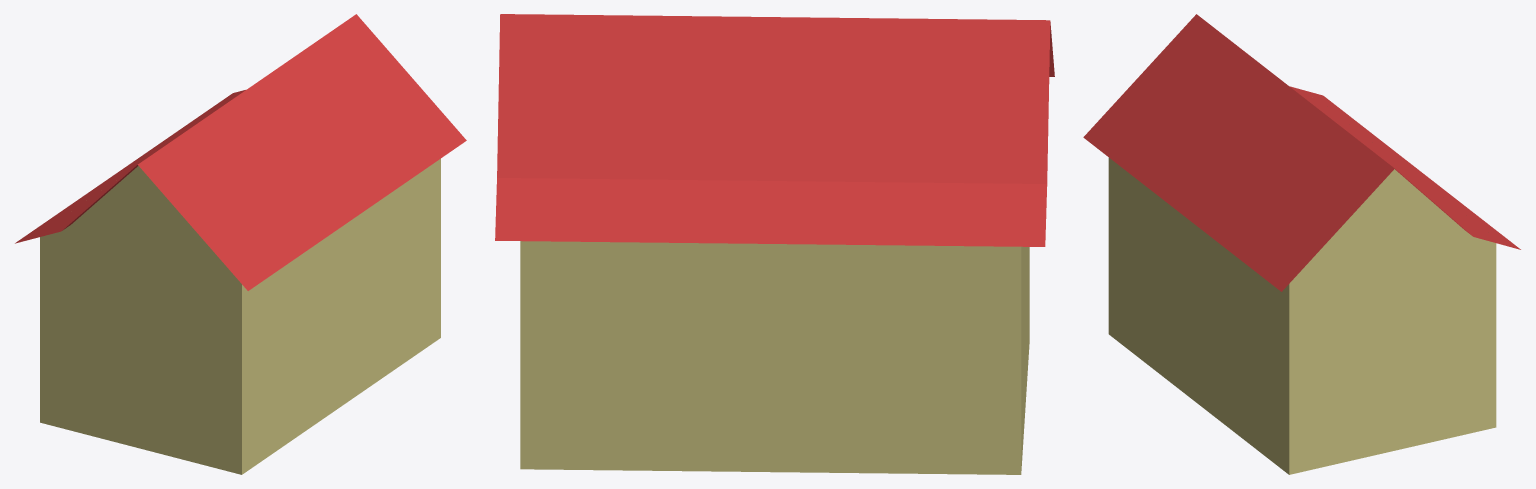
3 renders of one model, left to right at view 1: azimuth 30°, elevation 25°; view 2: azimuth 150°, elevation 25°; view 3: azimuth 270°, elevation 25°, orthographic. The views are drawn at different scales.
Bounding box in the file's own units: 26.53 × 23.45 × 17.17.
